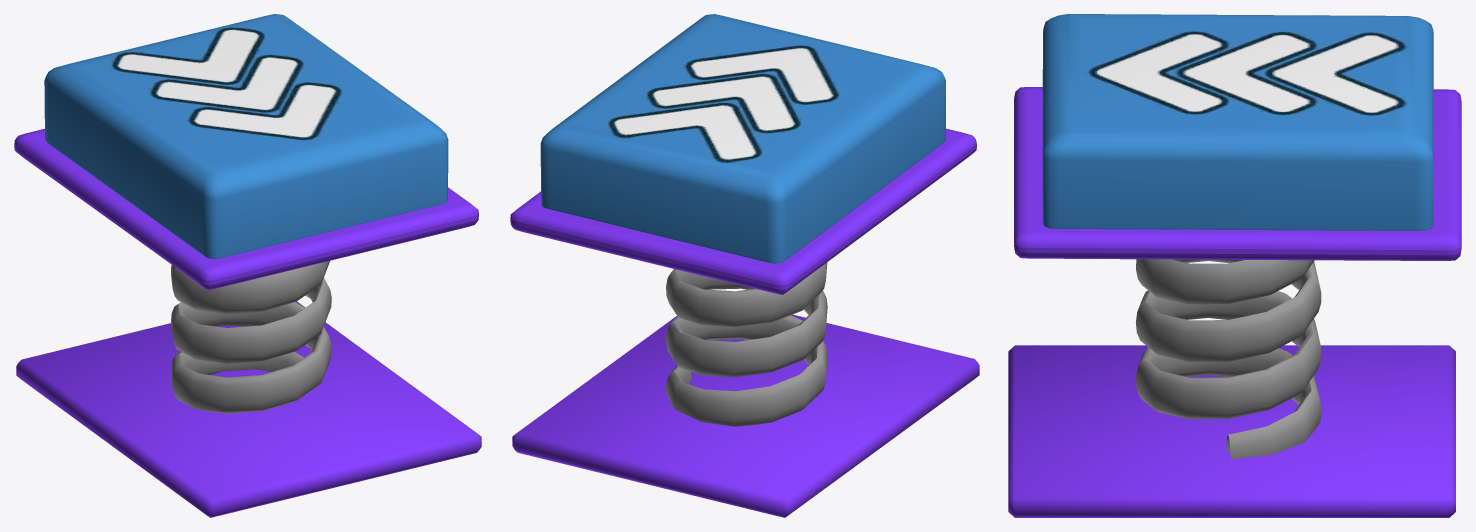
Rendered from Jump Pad Blue (1).fbx.
3 renders of one model, left to right at view 1: azimuth 30°, elevation 25°; view 2: azimuth 150°, elevation 25°; view 3: azimuth 270°, elevation 25°, orthographic. The views are drawn at different scales.
Parts seen in each view (by area): view 1: jump_ramp, Jump Pad Blue (1); view 2: jump_ramp, Jump Pad Blue (1); view 3: jump_ramp, Jump Pad Blue (1).
Part boxes in pixels (x1,y1,x2,y2): jump_ramp: (14, 14, 478, 413); Jump Pad Blue (1): (16, 301, 481, 517); jump_ramp: (510, 14, 976, 426); Jump Pad Blue (1): (512, 314, 979, 517); jump_ramp: (1014, 14, 1461, 459); Jump Pad Blue (1): (1008, 345, 1455, 517).
Size of the model in its own units: 3.3 by 3.68 by 4.08.
3 materials, 1 textured.
